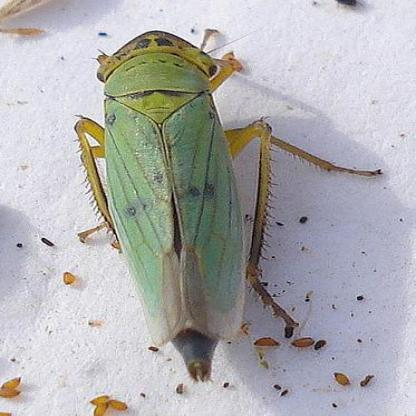green-leafhopper: (85, 32, 275, 373)
